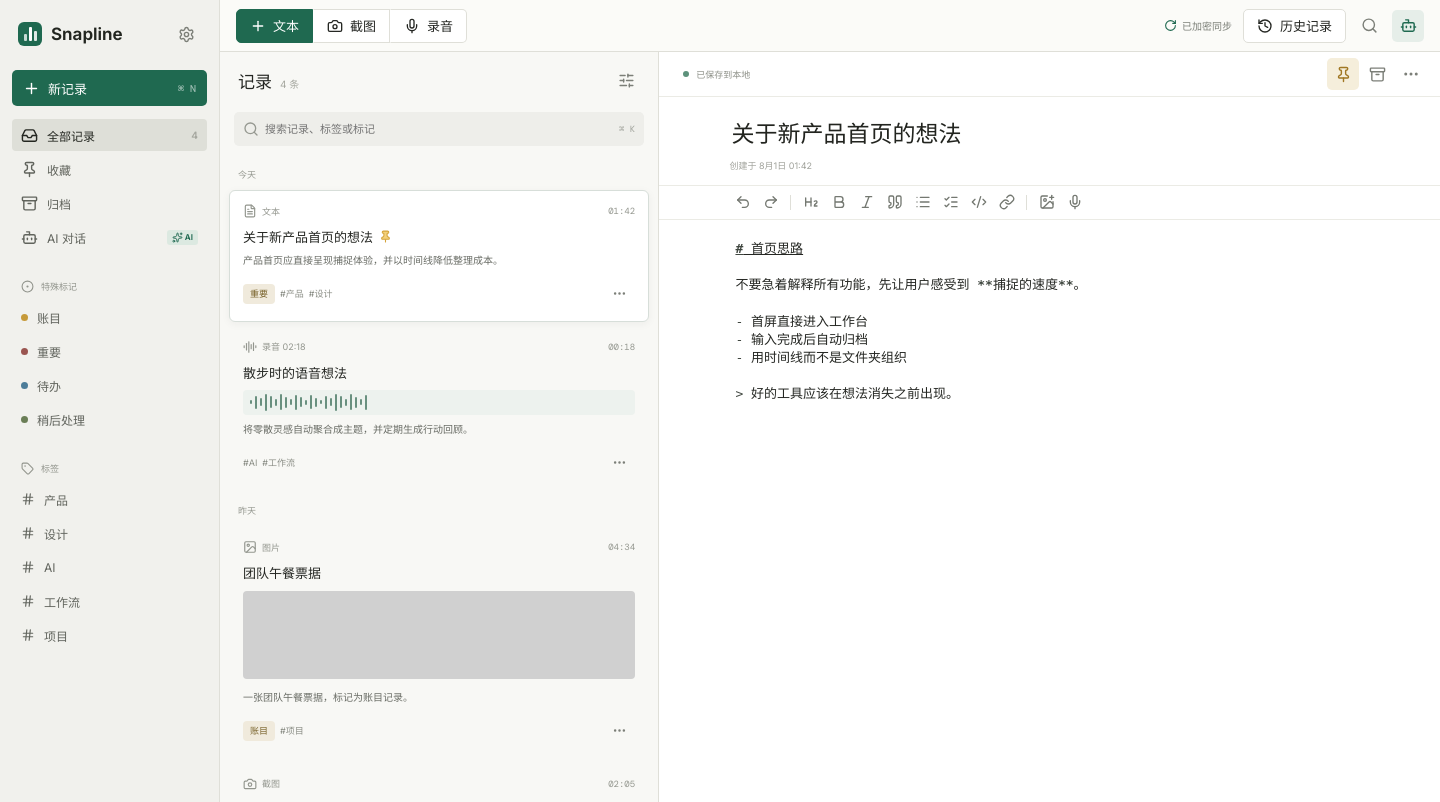
desktop workspace › adds and removes a record from favorites
The width and height of the screenshot is (1440, 802).
Check: the heading "团队午餐票据" is shown, box [243,563,321,582]
Click the button named "更多操作：团队午餐票据". click: (619, 730)
box: [603,714,635,746]
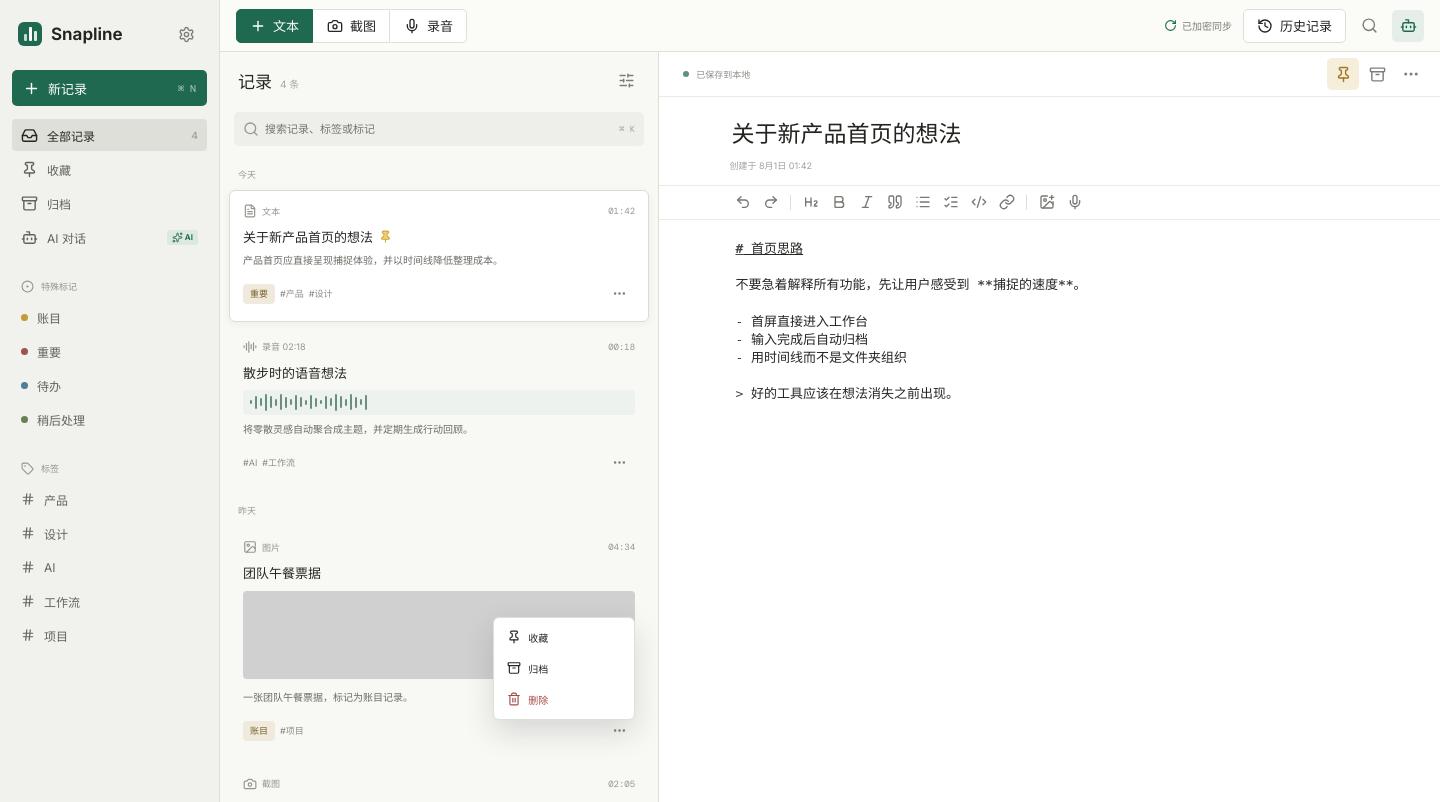
Click the button named "收藏：团队午餐票据". click: (564, 637)
box: [499,622,629,652]
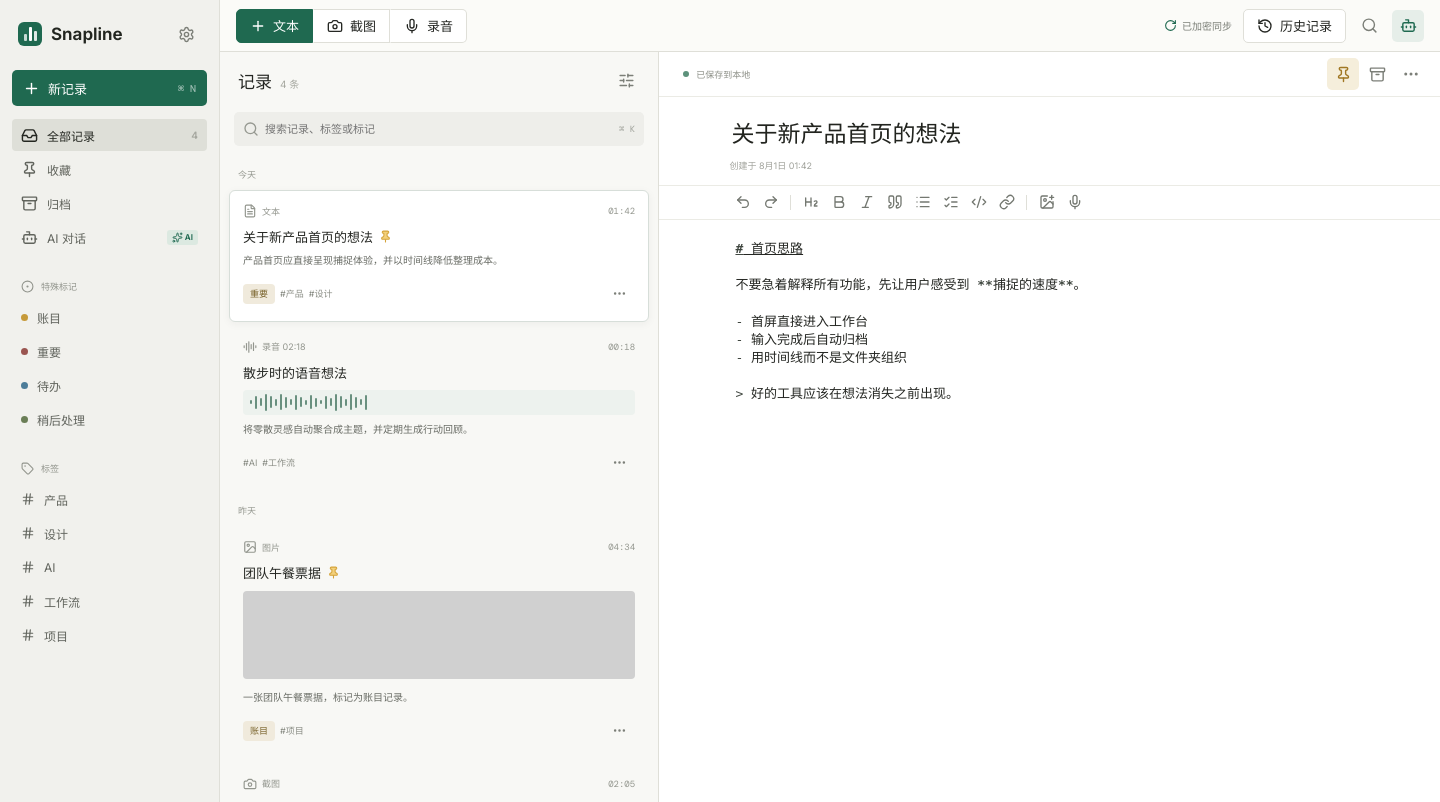
Click the button "收藏". click: (110, 169)
box: [12,153,207,185]
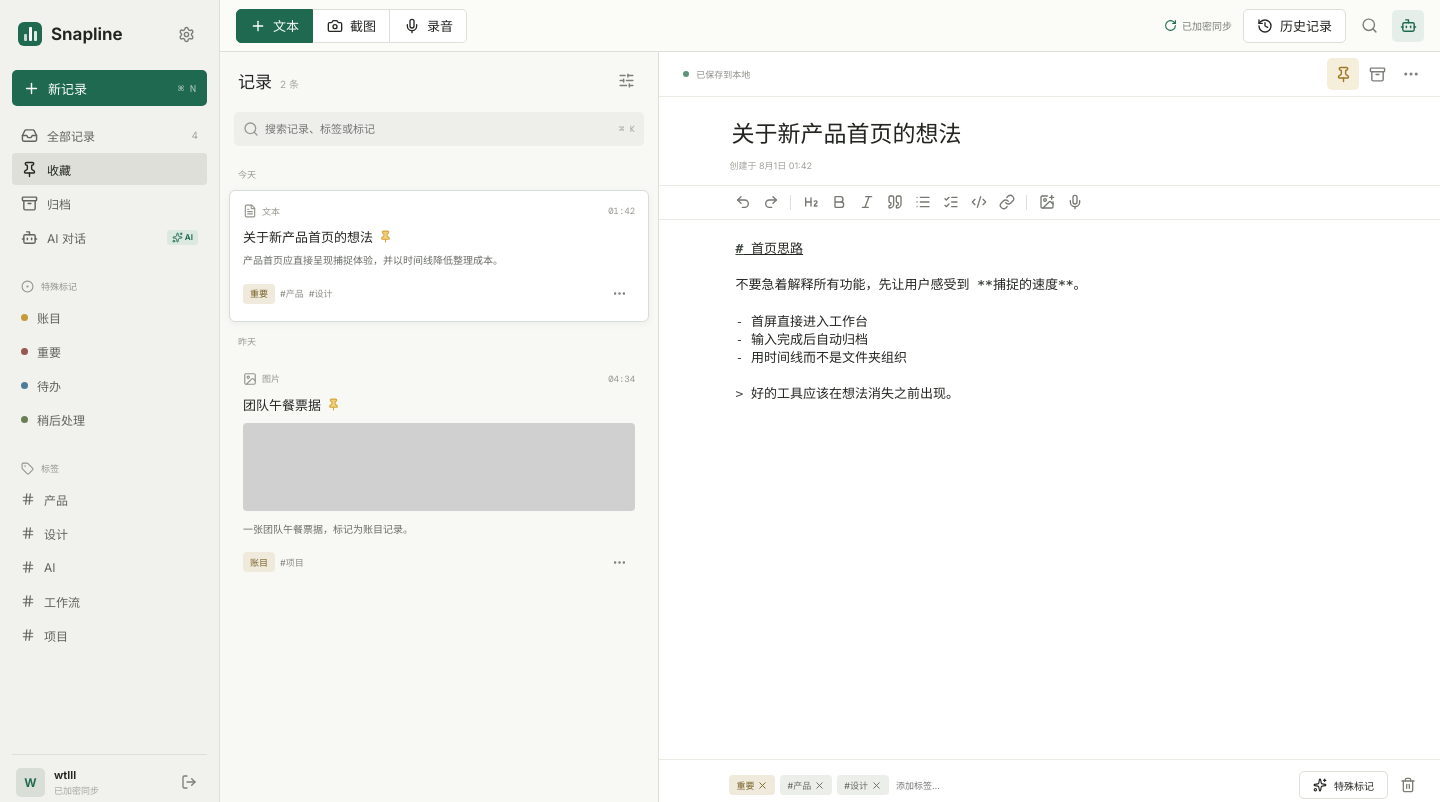
Check: the heading "团队午餐票据" is shown, box [243,394,321,414]
Click the button named "更多操作：团队午餐票据". click: (619, 562)
box: [603,546,635,578]
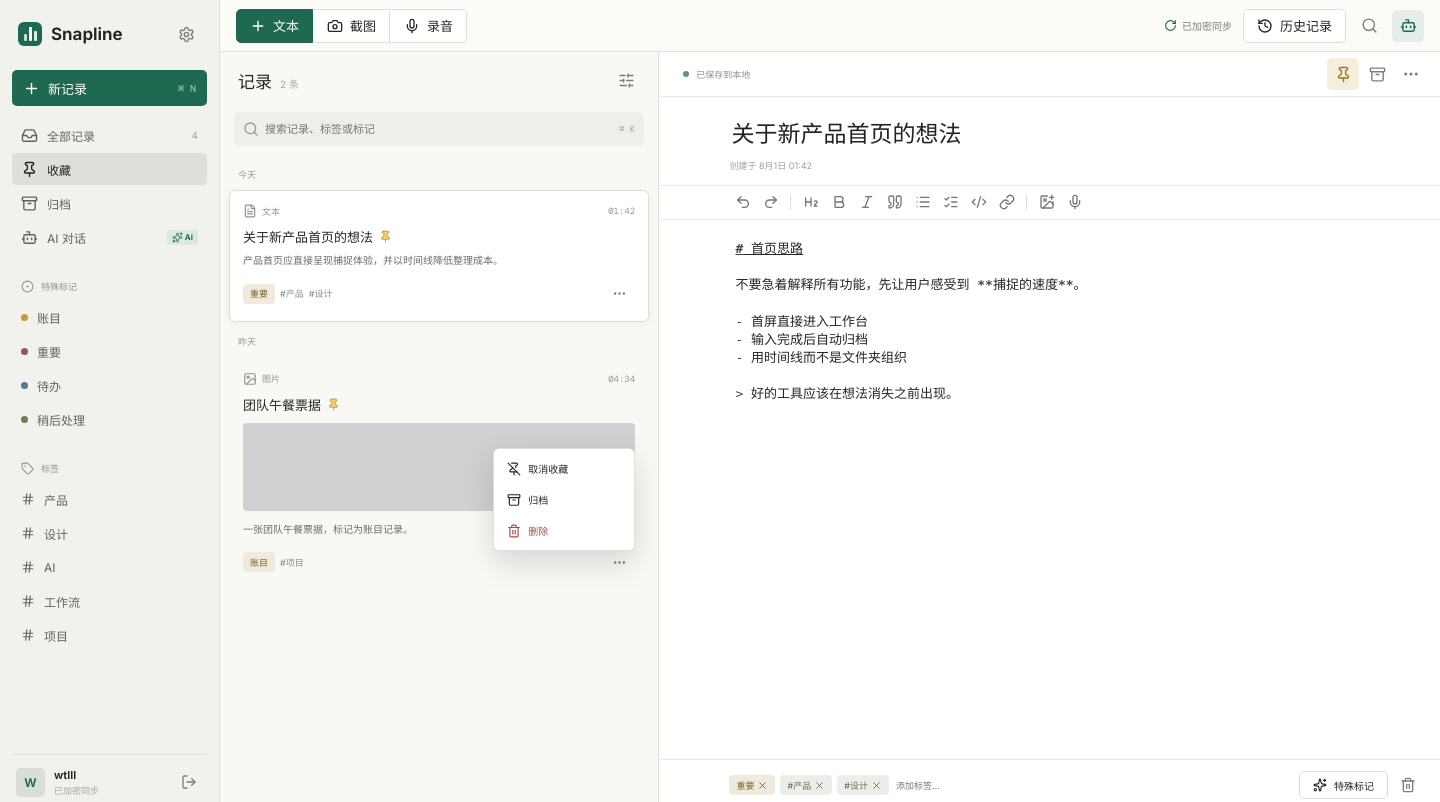
Click the button named "取消收藏：团队午餐票据". click: (564, 468)
box: [499,454,629,483]
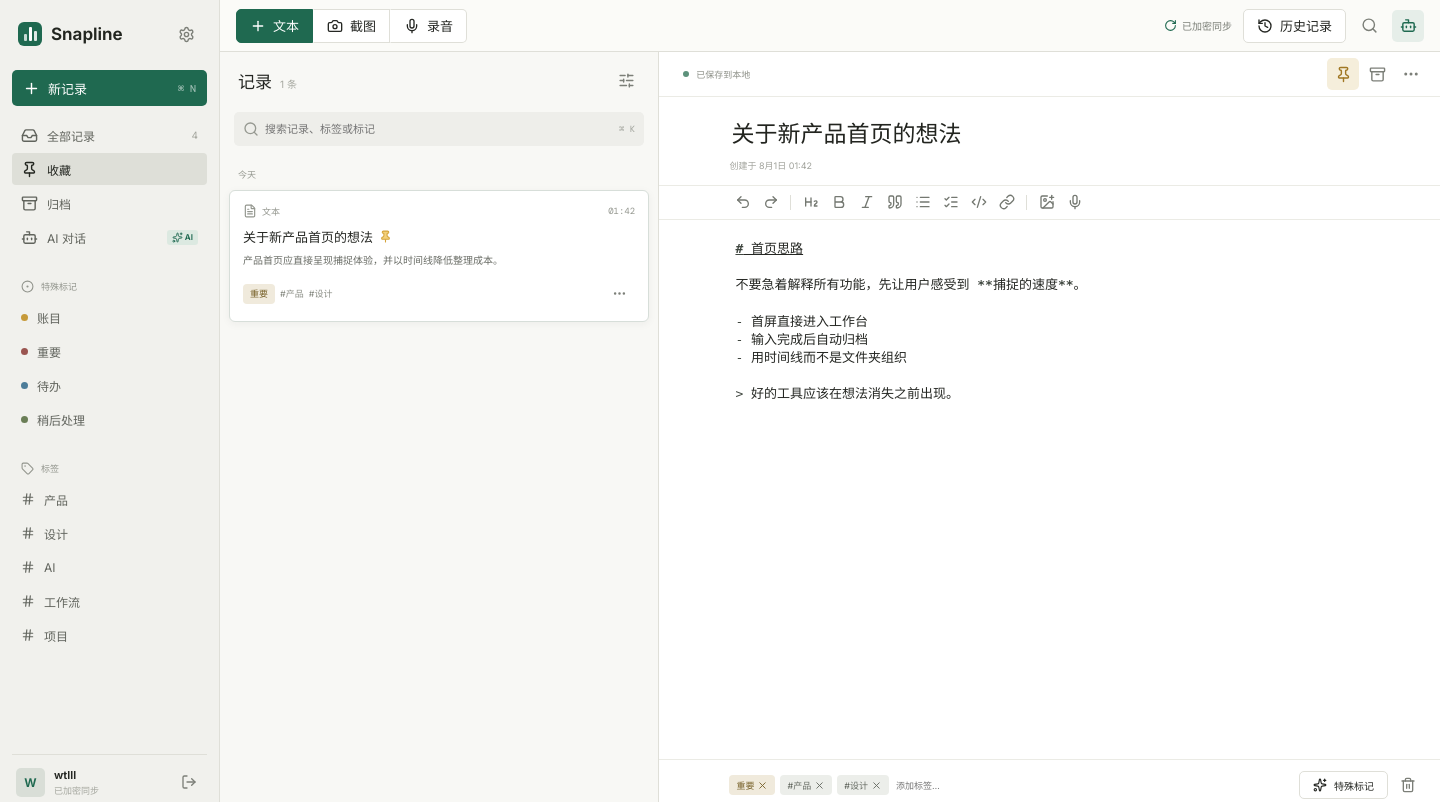
Check: the heading "团队午餐票据" is gone
